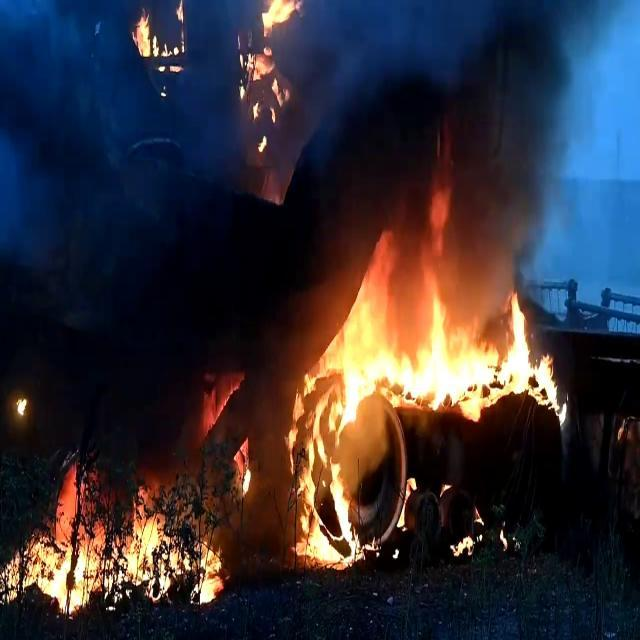Fire: (286, 237, 562, 548), (3, 472, 228, 620), (239, 0, 306, 117), (132, 0, 192, 80)
Smoke: (2, 0, 593, 300)
